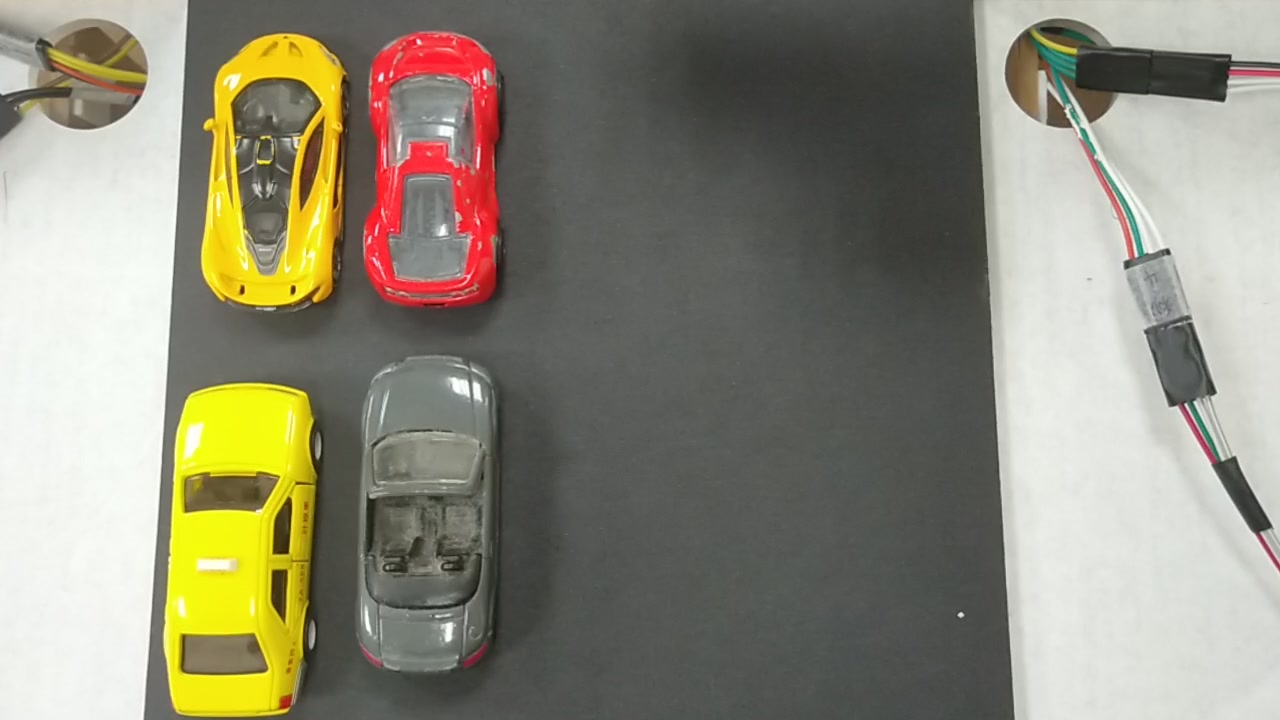car: (164, 384, 313, 708), (355, 361, 501, 667), (366, 29, 507, 308), (202, 33, 340, 309)
